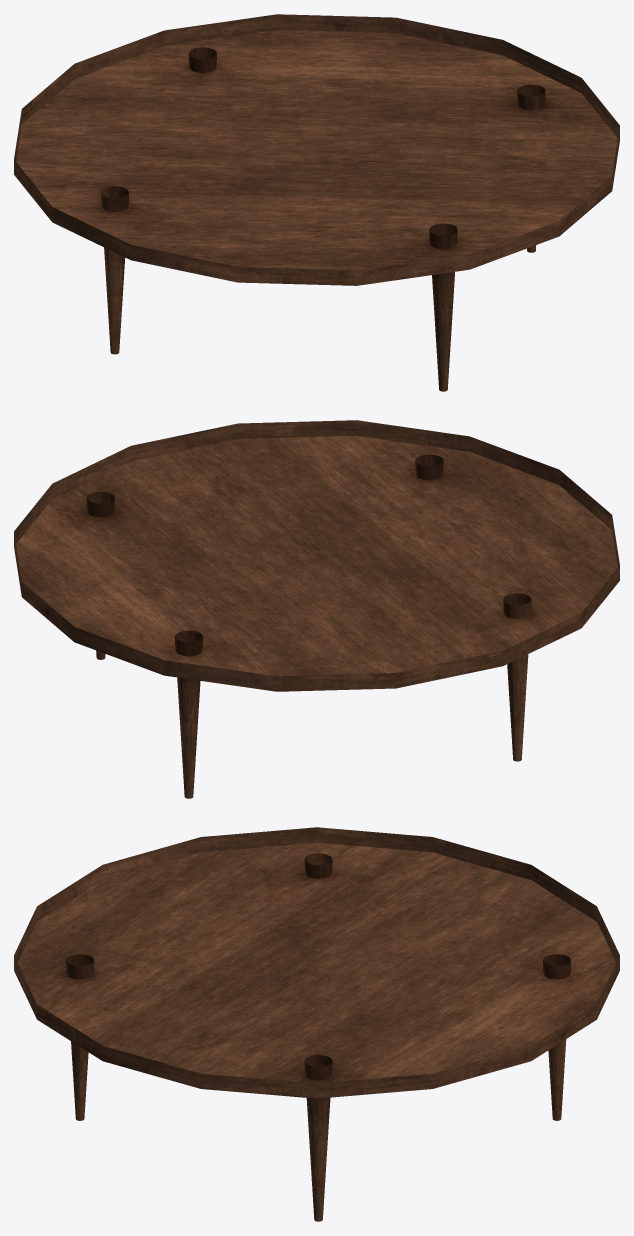
File: ShakarimTable.fbx
3 renders of one model, top to bottom at view 1: azimuth 30°, elevation 25°; view 2: azimuth 150°, elevation 25°; view 3: azimuth 270°, elevation 25°, orthographic.
Parts seen in each view (by area): view 1: Table; view 2: Table; view 3: Table.
Boxes of the visible parts, x1,y1,x2,y2 form: Table: [14, 14, 619, 391]; Table: [14, 420, 619, 798]; Table: [14, 827, 619, 1221].
Bounding box in the file's own units: 160 × 46.73 × 160.
1 material, 1 textured.
